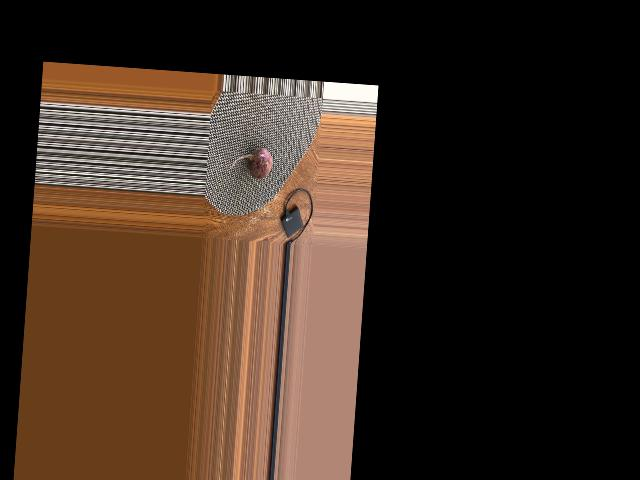beet: (230, 146, 272, 180)
